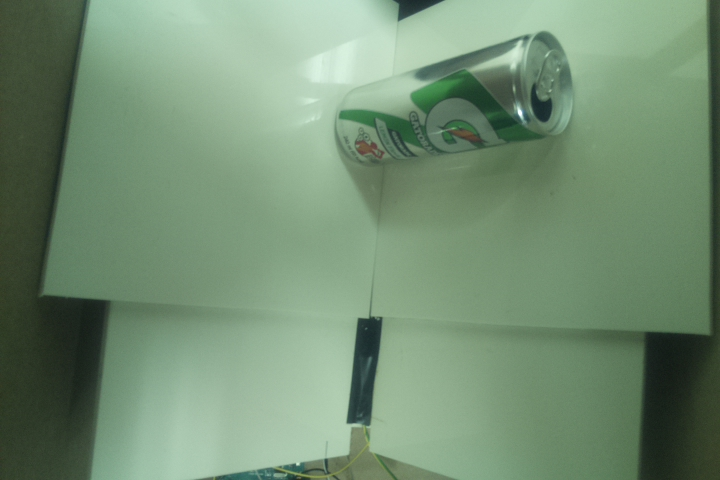can: (328, 29, 574, 173)
